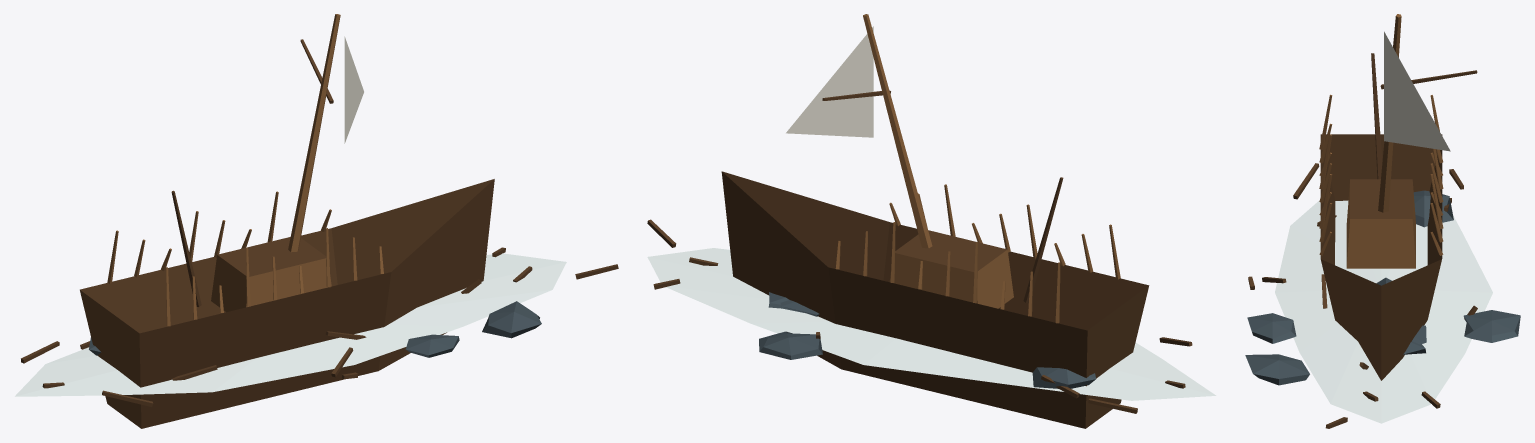
File: W2_Mid_Shipwreck.fbx
The picture shows the model from 3 angles, left to right: view 1: azimuth 30°, elevation 25°; view 2: azimuth 150°, elevation 25°; view 3: azimuth 270°, elevation 25°; orthographic projection. The views are drawn at different scales.
Visible parts, largest first — view 1: W2_Mid_Shipwreck; view 2: W2_Mid_Shipwreck; view 3: W2_Mid_Shipwreck.
Part boxes in pixels (bbox=[...]): W2_Mid_Shipwreck: bbox=[15, 14, 618, 428]; W2_Mid_Shipwreck: bbox=[647, 14, 1216, 428]; W2_Mid_Shipwreck: bbox=[1245, 14, 1520, 428].
Size of the model in its own units: 78.07 by 44.08 by 31.76.
